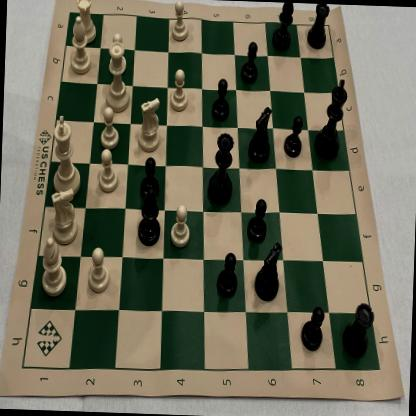black-bishop: (136, 187, 164, 249), (271, 2, 296, 53)
black-king: (313, 78, 350, 163)
black-knight: (253, 238, 286, 304), (245, 104, 272, 164)
black-pawn: (298, 304, 326, 353), (214, 251, 239, 299), (246, 198, 269, 246), (282, 115, 305, 159), (240, 40, 262, 86), (211, 76, 232, 122), (139, 156, 161, 199)
black-queen: (207, 132, 237, 208)
black-rook: (340, 300, 376, 360), (307, 4, 331, 51)
white-bishop: (64, 18, 96, 76), (40, 237, 70, 297)
white-king: (50, 113, 83, 198)
white-knight: (47, 186, 81, 246), (136, 96, 164, 154)
white-pawn: (84, 245, 112, 296), (94, 149, 120, 195), (168, 68, 191, 116), (98, 105, 121, 151), (169, 203, 191, 250), (169, 0, 191, 44), (107, 32, 128, 78)
white-queen: (105, 42, 133, 114)
white-rook: (71, 0, 100, 46)
